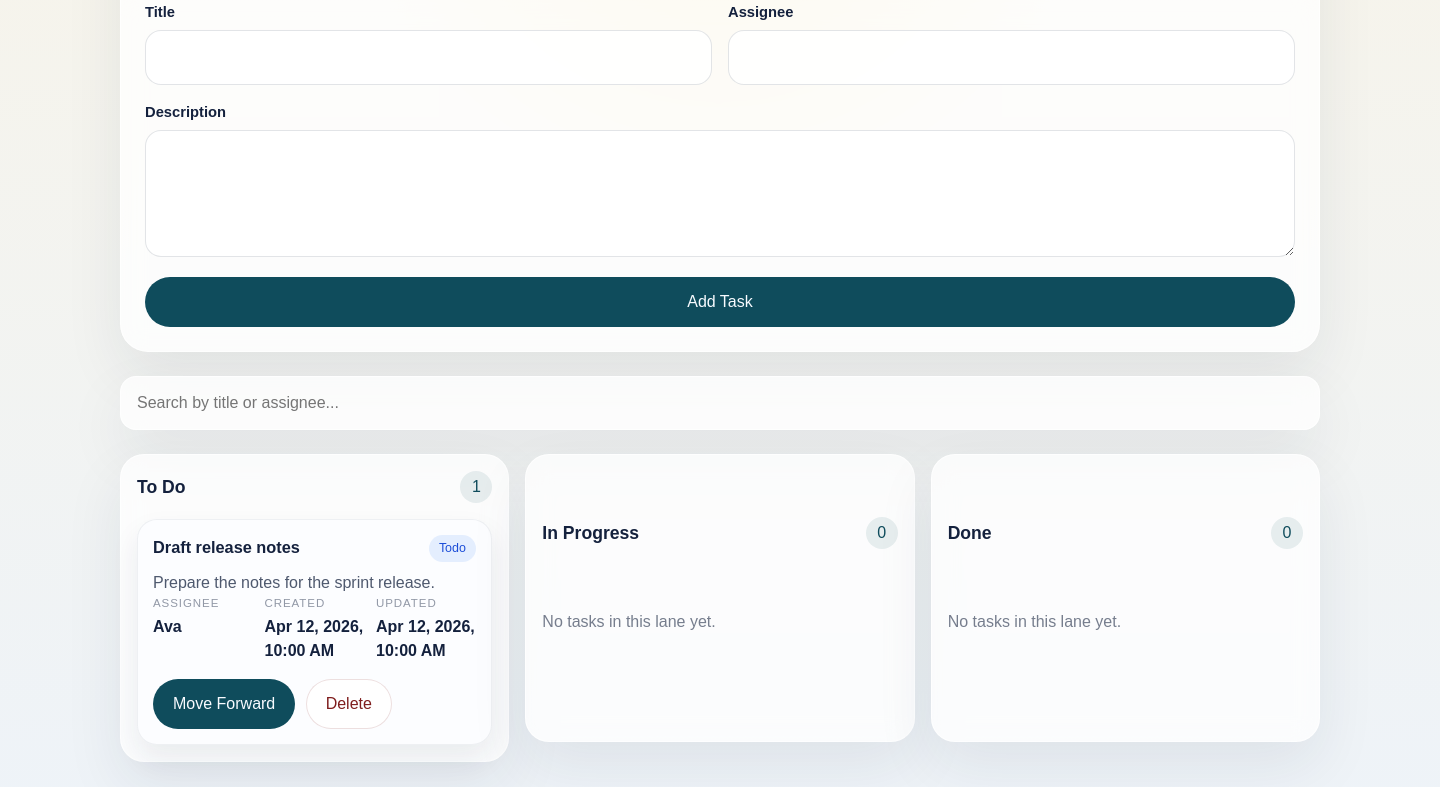
Test: App › undoes the last move and restores the task to the previous column
(page scrolled)
Click the button "Move Forward". click: (224, 704)
box: [153,679,295,729]
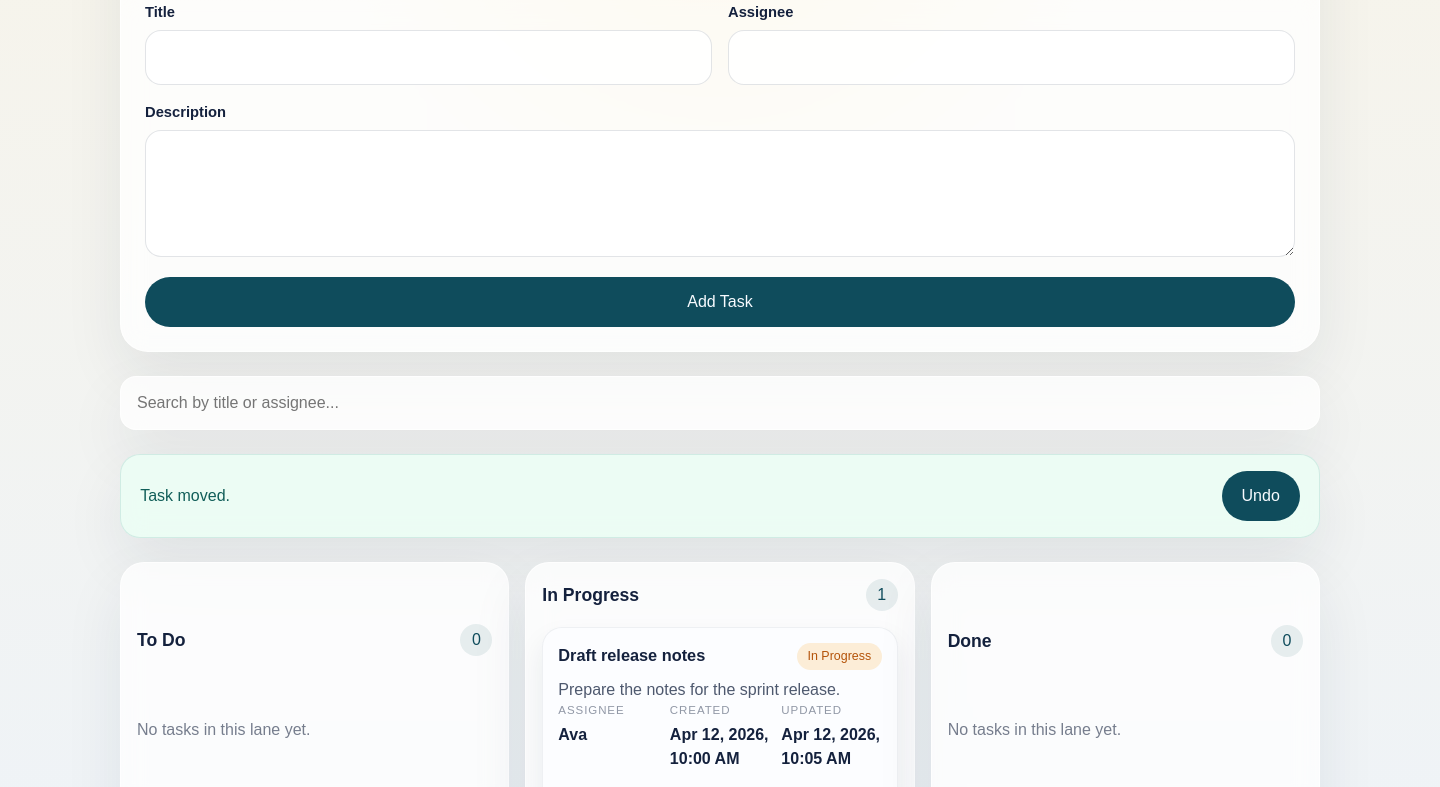
Click the button "Undo". click: (1261, 496)
box: [1222,471,1300,521]
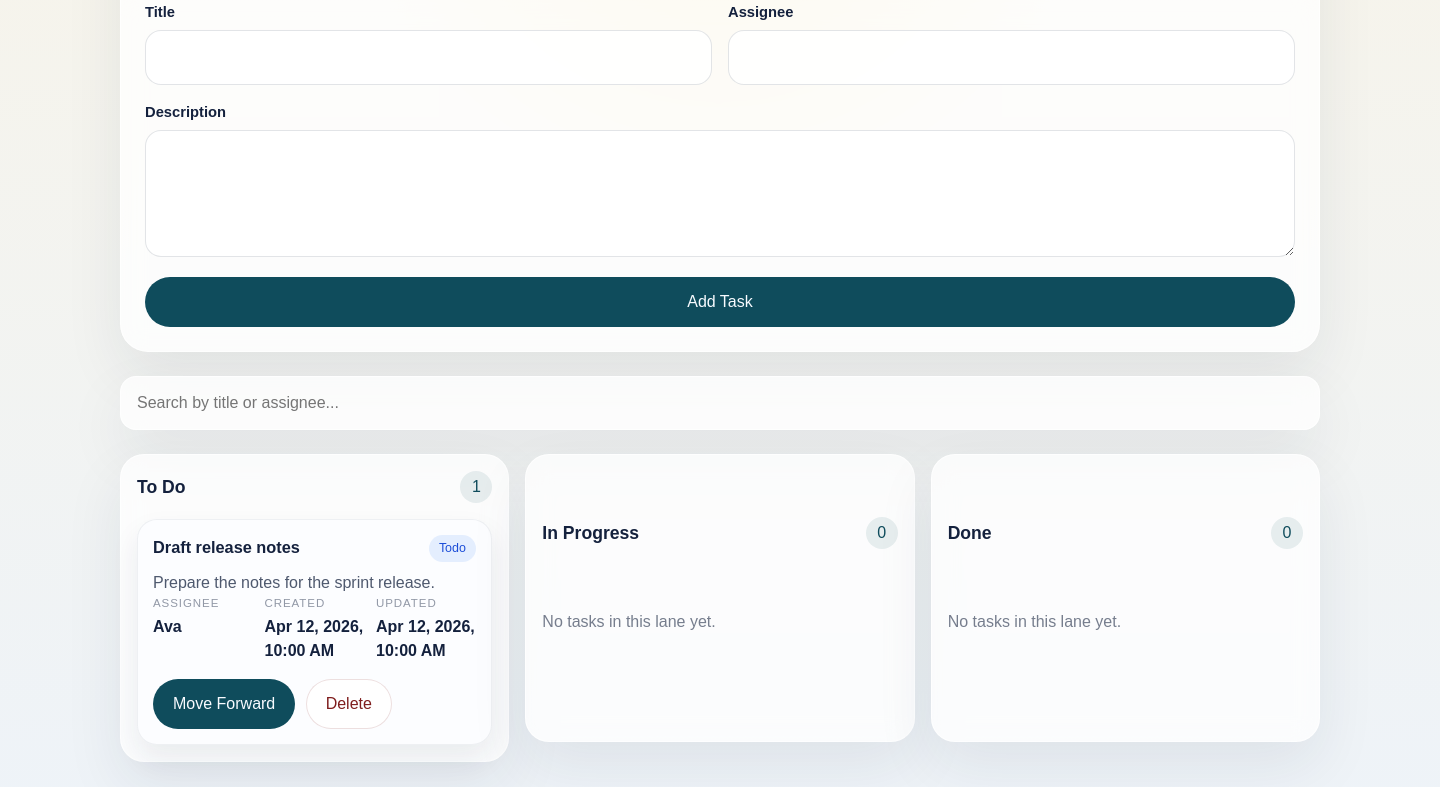
Expected: the heading "Draft release notes" is shown, [153,535,300,560]
Now the button "Undo" is gone
